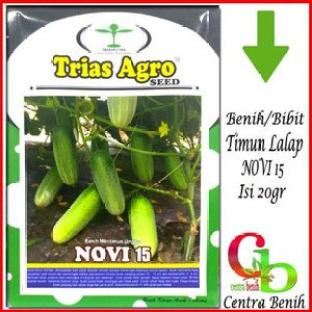Cucumber: (51, 184, 101, 243), (91, 150, 124, 215), (129, 196, 158, 256), (51, 125, 79, 185), (34, 167, 64, 208), (164, 148, 188, 190), (108, 97, 137, 127), (131, 151, 153, 182), (92, 138, 109, 152)
